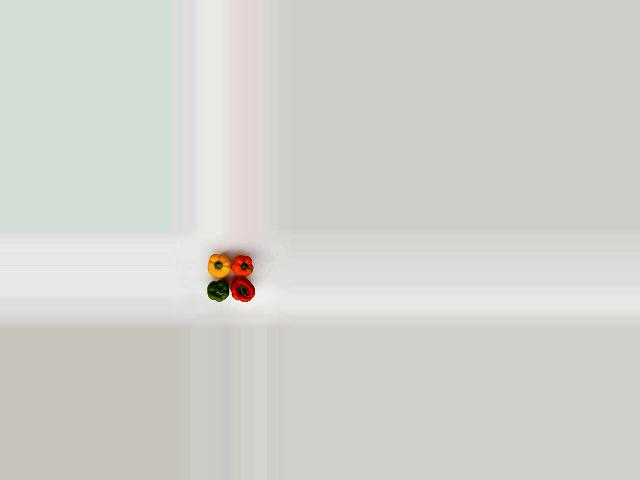bell_pepper: (200, 277, 234, 303)
